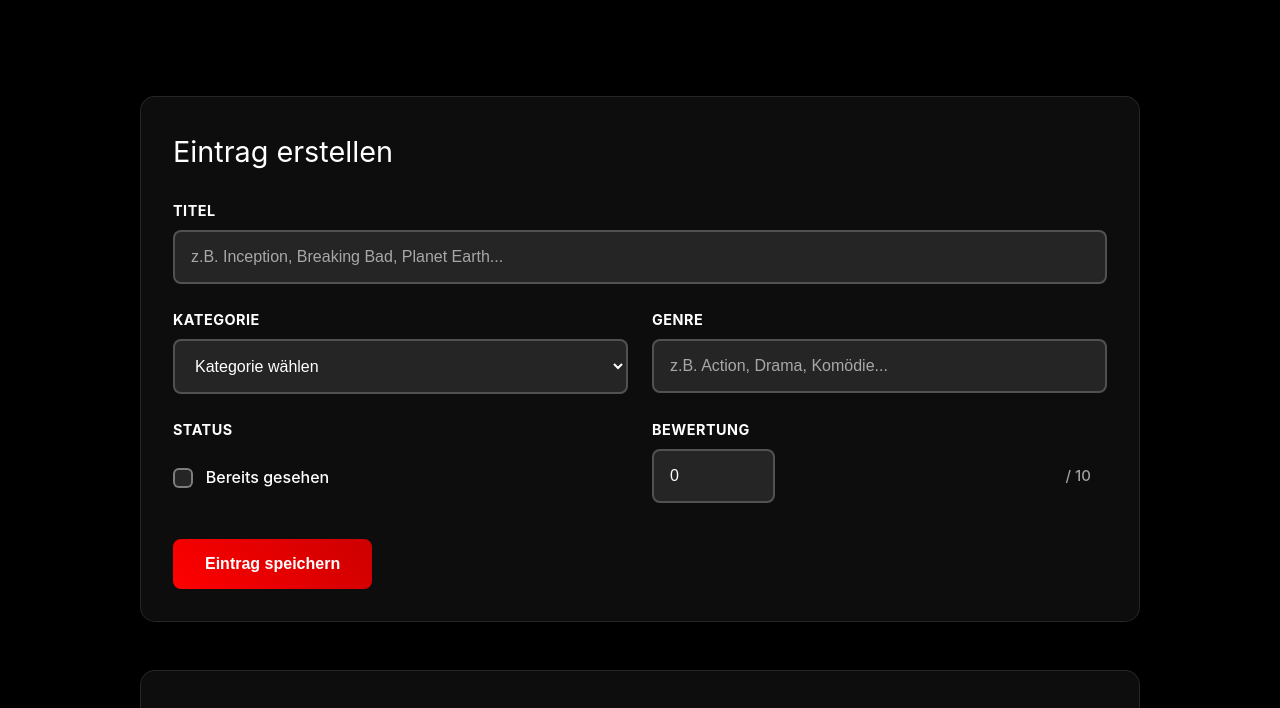
Test case: DynamicForm › Form Validation › should show error for empty type
In the field with id "title": (640, 257) [173,230,1107,284], type "Test Movie"
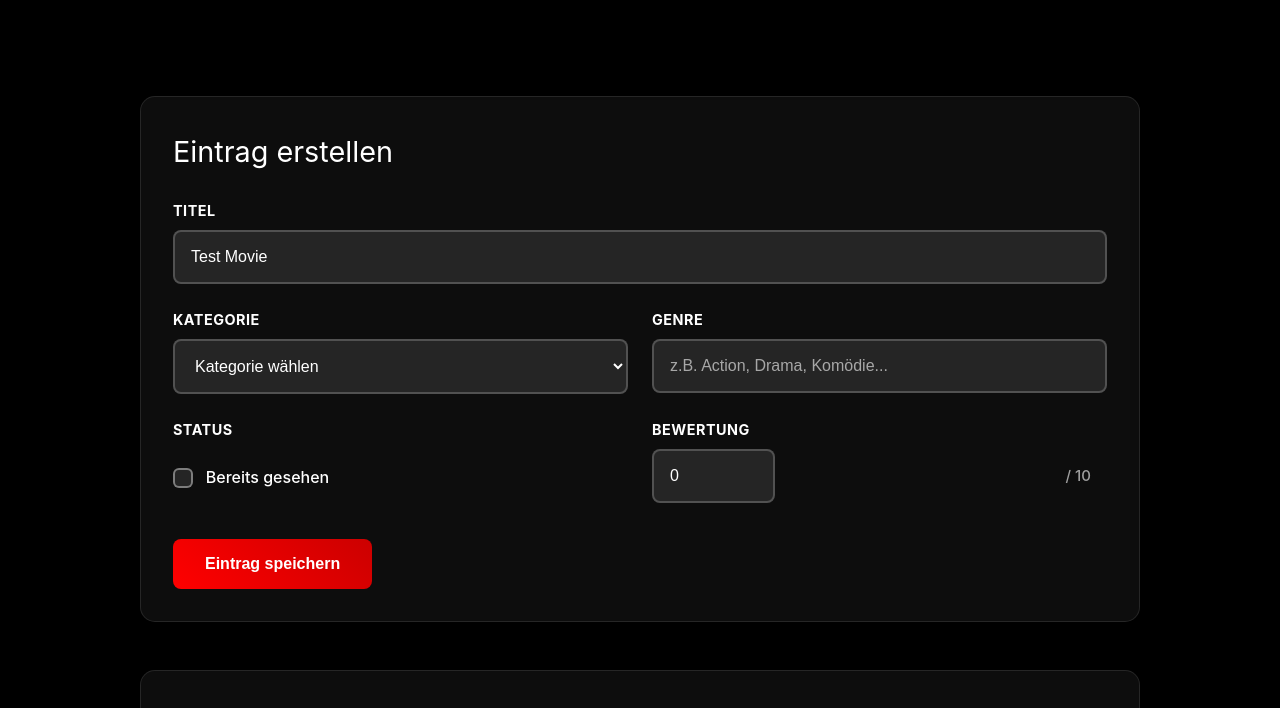
Submit the form, box [173,199,1107,589]
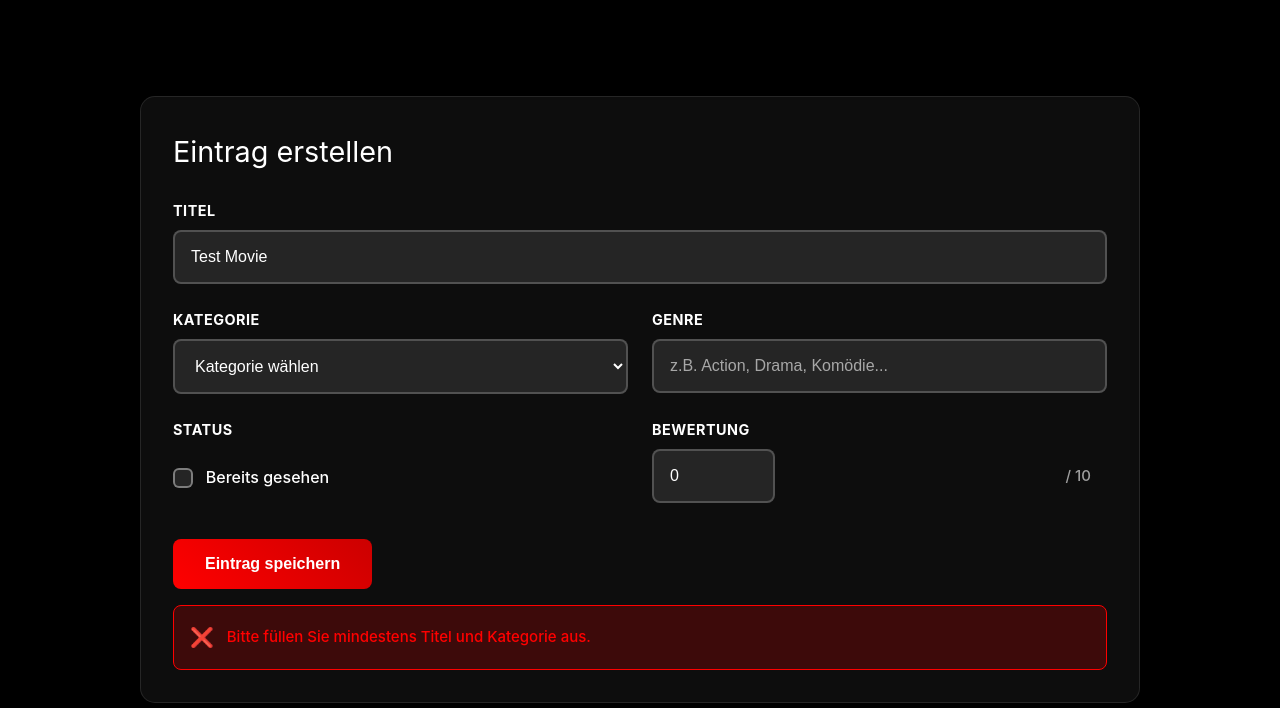
Result: the element with class "error" shows "Bitte füllen Sie mindestens Titel und Kategorie aus." at [227,627,591,646]
